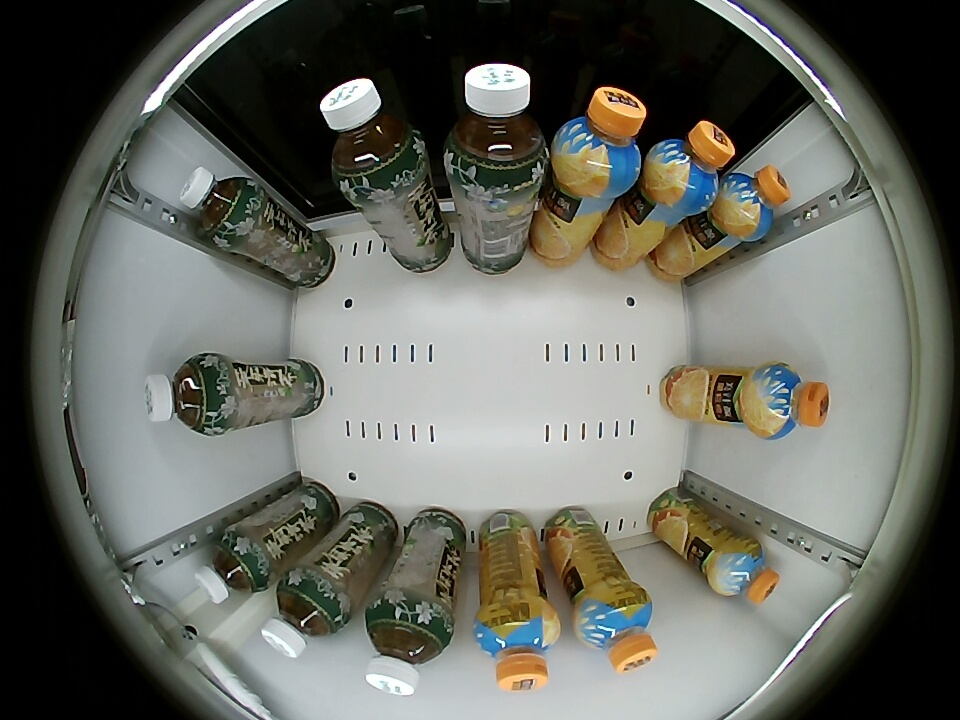guolicheng: (551, 87, 646, 195), (644, 120, 735, 213), (474, 597, 561, 691), (572, 582, 658, 674), (746, 363, 830, 440), (717, 165, 791, 241), (708, 533, 780, 604)
moliqingcha: (443, 63, 548, 188), (321, 78, 425, 193), (364, 601, 453, 697), (261, 573, 348, 659), (143, 353, 228, 435), (179, 167, 258, 245), (195, 530, 268, 603)
